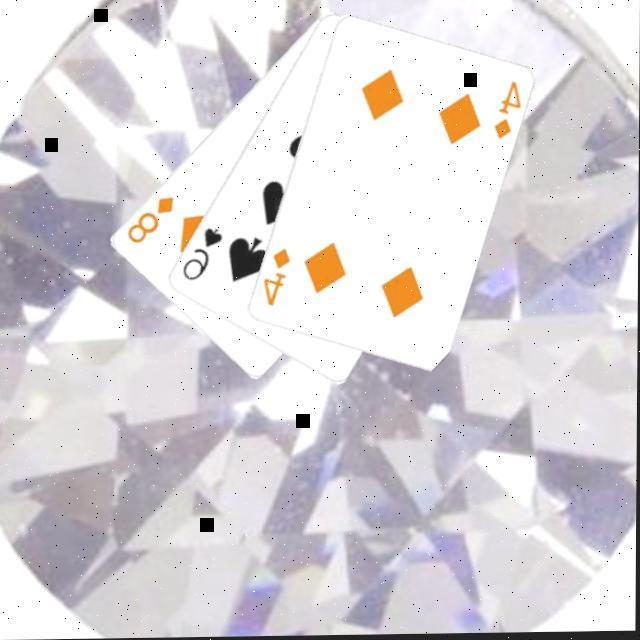4D: (492, 79, 526, 143), (262, 245, 295, 309)
8D: (124, 192, 178, 246)
9S: (181, 223, 227, 284)
